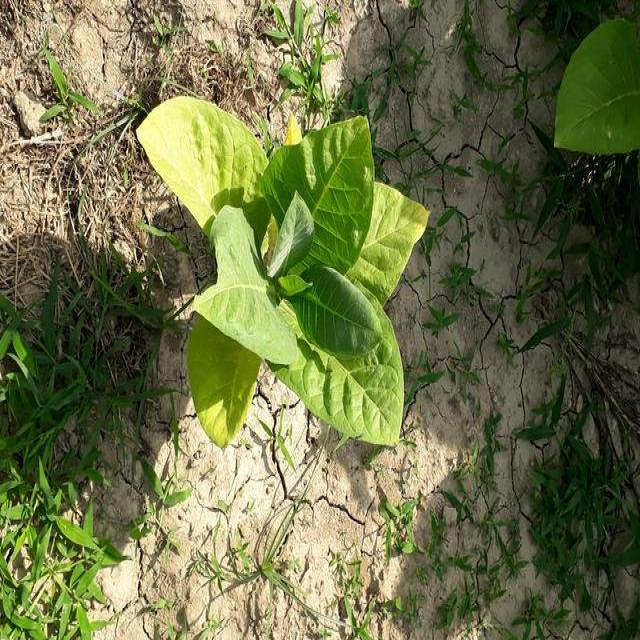crop: (140, 92, 434, 446)
